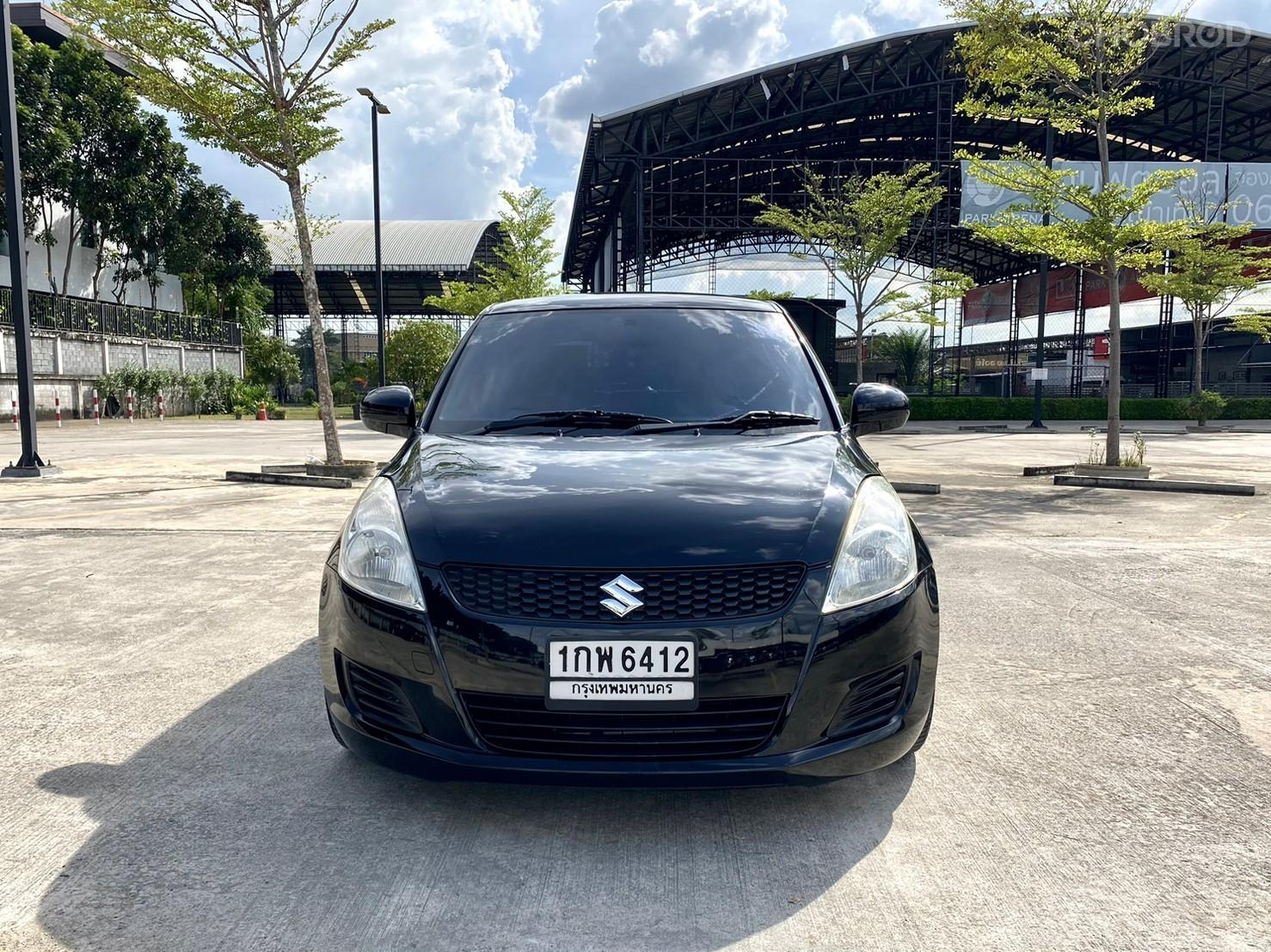license-plate: (544, 634, 697, 708)
